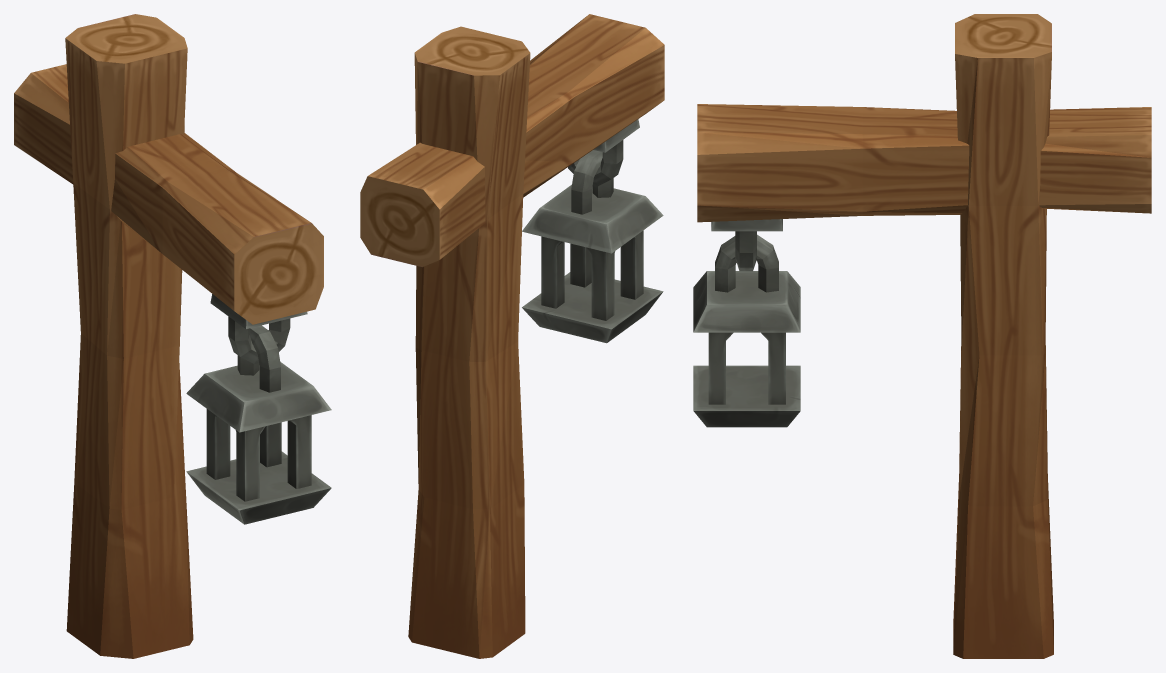
File: Lamp Post.fbx
The picture shows the model from 3 angles, left to right: view 1: azimuth 30°, elevation 25°; view 2: azimuth 150°, elevation 25°; view 3: azimuth 270°, elevation 25°; orthographic projection. The views are drawn at different scales.
Visible parts, largest first — view 1: Lamp Post; view 2: Lamp Post; view 3: Lamp Post.
Part boxes in pixels (<box>): Lamp Post: <box>14,14,331,658</box>; Lamp Post: <box>360,14,664,658</box>; Lamp Post: <box>693,14,1151,658</box>.
Size of the model in its own units: 26.58 by 159 by 110.
Materials: 1 (1 with a texture image).
